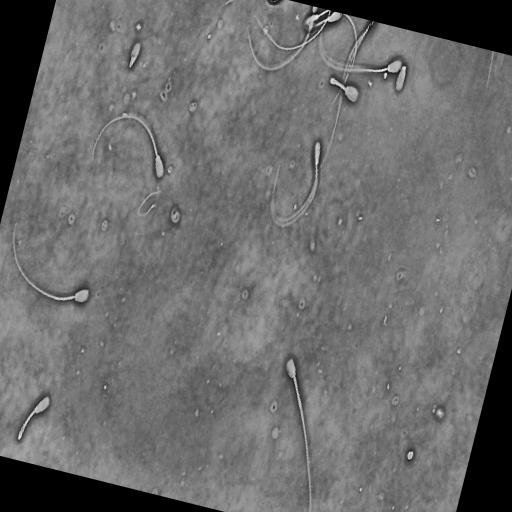coiled-tail: (308, 18, 328, 30), (330, 77, 346, 91)
dirt-particles: (405, 448, 416, 462)
folded-tail: (17, 407, 35, 443)
loose-head: (126, 38, 141, 74), (393, 63, 408, 95)
loose-tail: (136, 188, 162, 218)
normal: (12, 220, 89, 303), (91, 111, 166, 182), (284, 354, 314, 512), (270, 138, 323, 227), (319, 23, 404, 77), (16, 394, 51, 442), (329, 75, 359, 105), (305, 12, 344, 34)
